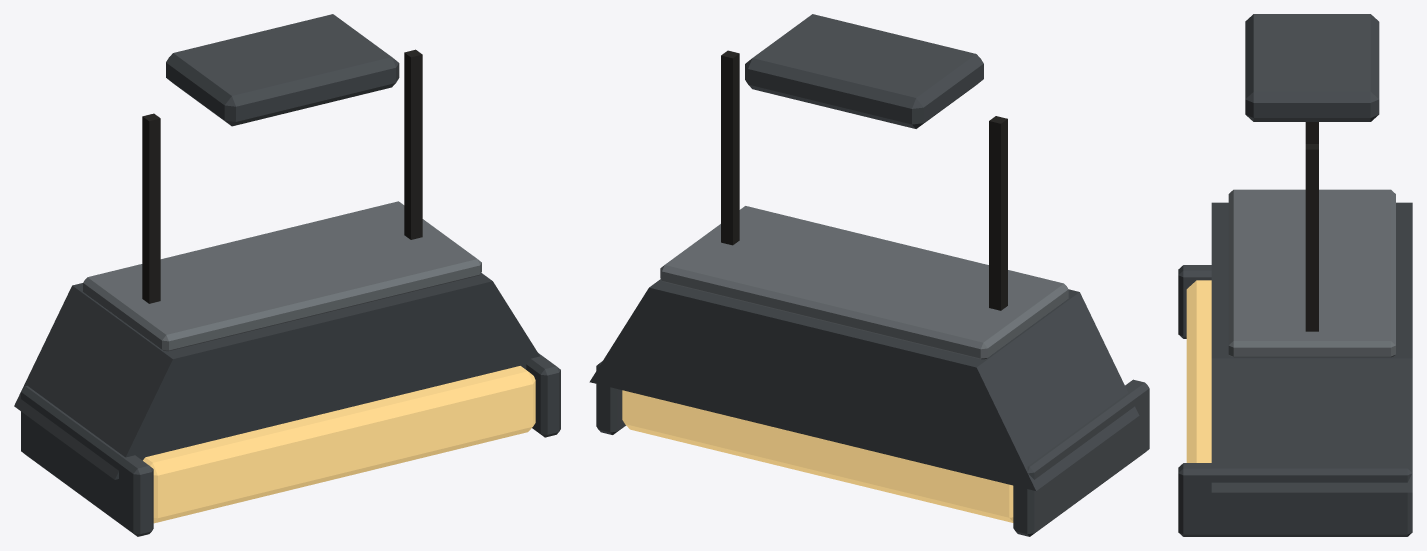
Rendered from lamp_ceiling_lyuminestsentnaya_idle.glb.
3 views of the same model, side by side, from view 1: azimuth 30°, elevation 25°; view 2: azimuth 150°, elevation 25°; view 3: azimuth 270°, elevation 25° (orthographic). The views are drawn at different scales.
Visible parts, largest first — view 1: lamp_ceiling_lyuminestsentnaya_idle; view 2: lamp_ceiling_lyuminestsentnaya_idle; view 3: lamp_ceiling_lyuminestsentnaya_idle.
Boxes of the visible parts, x1=… form: lamp_ceiling_lyuminestsentnaya_idle: x1=14, y1=14, x2=560, y2=536; lamp_ceiling_lyuminestsentnaya_idle: x1=589, y1=14, x2=1149, y2=536; lamp_ceiling_lyuminestsentnaya_idle: x1=1178, y1=14, x2=1412, y2=536.
Size of the model in its own units: 0.3 by 0.252 by 0.14.
2 materials, 2 textured.
